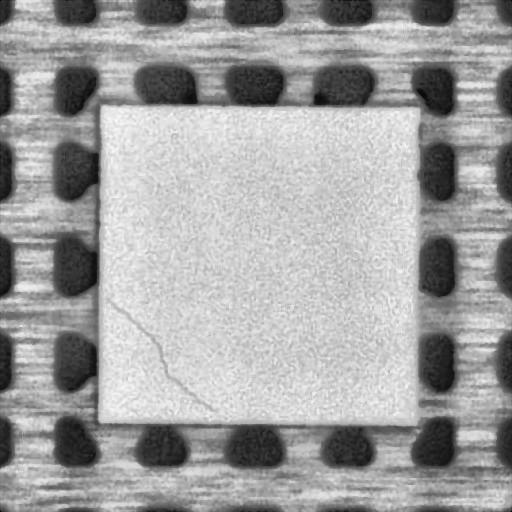DIE_CRACK: (107, 297, 225, 420)
